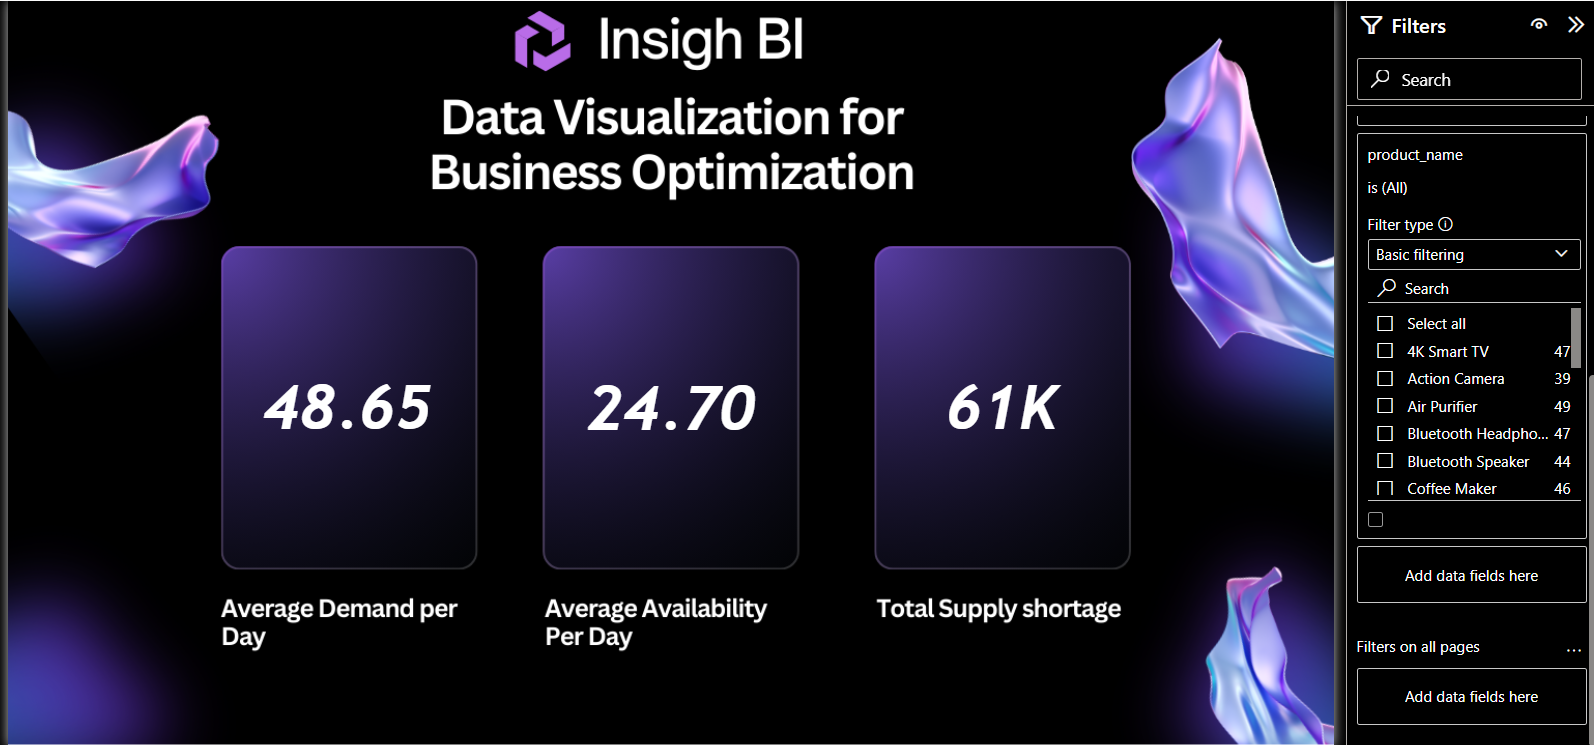

The dashboard page shown, as its layout file describes it:
{"tool":"powerbi","page":{"name":"Page 1","canvas":[1280,720],"ordinal":0},"visuals":[{"type":"card","fields":{"Values":["Measure Table.Average Demand Per Day"]},"box":[208.6,250.6,238.3,272.8],"z":0},{"type":"card","fields":{"Values":["Measure Table.Average Avaibality Per Day"]},"box":[521,251.9,238.3,272.8],"z":1000},{"type":"card","fields":{"Values":["Measure Table.Total Supply Shortage"]},"box":[840.7,250.6,238.3,272.8],"z":2000}]}

Visuals, with their boxes on the page's 1280x720 design canvas (x1, y1, x2, y2). These are canvas units, not pixel positions in the 1594x745 screenshot, which may show the page scaled, cropped or inside an application window:
card - Measure Table.Average Demand Per Day: 209, 251, 447, 523
card - Measure Table.Average Avaibality Per Day: 521, 252, 759, 525
card - Measure Table.Total Supply Shortage: 841, 251, 1079, 523
